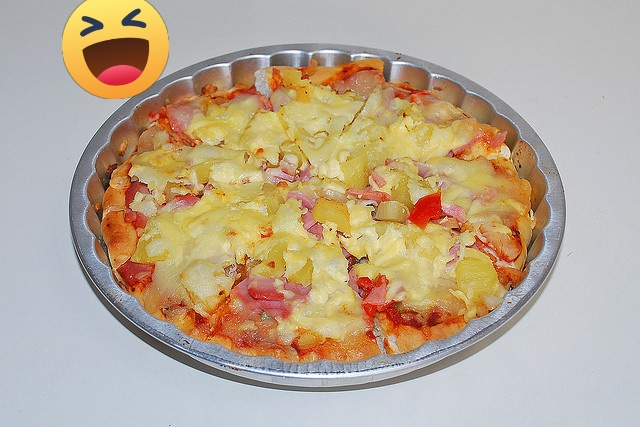haha: (62, 0, 169, 99)
